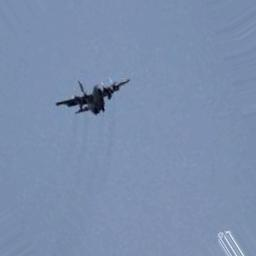Airplane: (55, 77, 132, 116)
